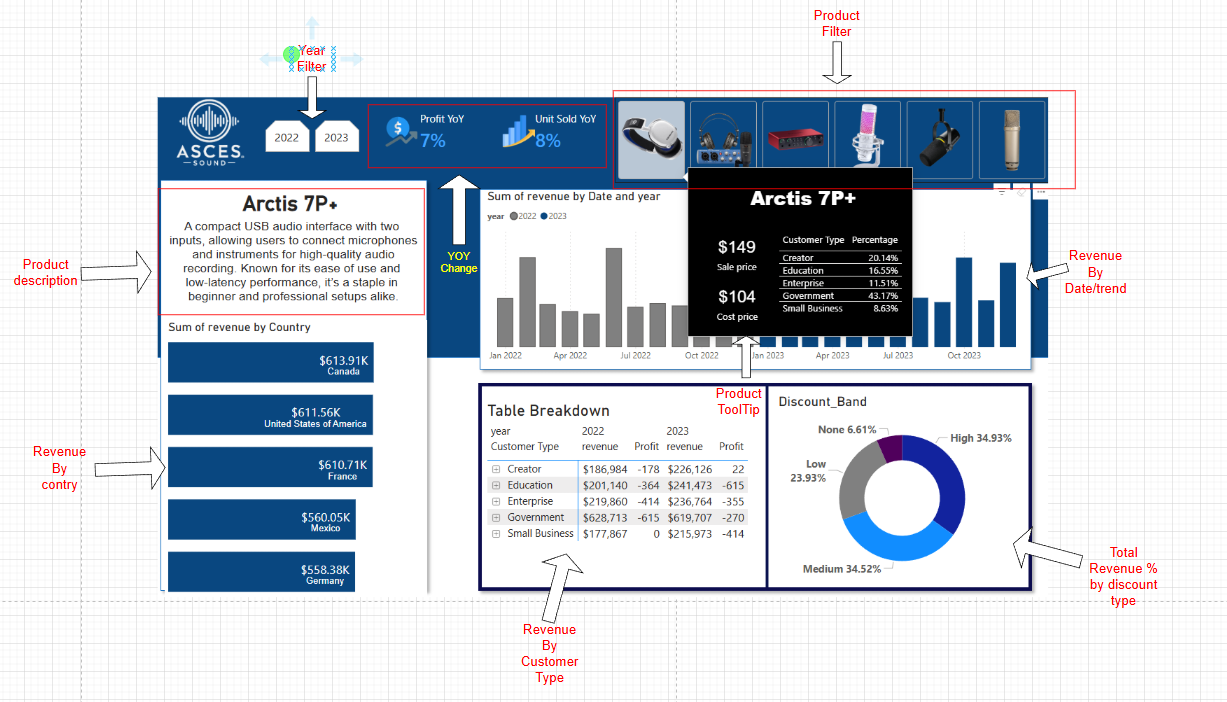

The dashboard page shown, as its layout file describes it:
{"tool":"powerbi","page":{"name":"Page 1","canvas":[1280,720],"ordinal":0},"visuals":[{"type":"shape","box":[0,0,1280,377.9],"z":0},{"type":"shape","box":[0,115.2,399,604.8],"z":1000},{"type":"shape","box":[456,128,806,276],"z":2000},{"type":"shape","box":[453.6,404.5,809.1,315.5],"z":3000},{"type":"image","box":[0,0,148,108],"z":4000},{"type":"advancedSlicerVisual","fields":{"Values":["Query1.Image_url"]},"box":[658.3,6.3,622.1,121.5],"z":5000},{"type":"card","fields":{"Values":["Min(Query1.Product)"]},"box":[14.5,115.2,360.9,79.8],"z":6000},{"type":"card","fields":{"Values":["Min(Query1.Description)"]},"box":[14.5,146,368.2,177.7],"z":7000},{"type":"clusteredBarChart","fields":{"Category":["Query1.Country"],"Y":["Sum(Query1.revenue)"]},"box":[14.5,323.7,375.4,396.3],"z":8000},{"type":"columnChart","fields":{"Category":["Query1.Date"],"Y":["Sum(Query1.revenue)"],"Series":["Query1.year"]},"box":[471,137,779,256],"z":9000},{"type":"donutChart","title":"Discount_Band","fields":{"Category":["Query1.Discount_Band"],"Y":["Sum(Query1.revenue)"]},"box":[886.9,428.9,362.7,277.5],"z":10000},{"type":"pivotTable","title":"Table Breakdown","fields":{"Rows":["Query1.Customer_Type","Query1.Product"],"Columns":["Query1.year"],"Values":["Sum(Query1.revenue)","Min(Query1.Profit)"]},"box":[471,440,397,239],"z":11000},{"type":"shape","box":[725.4,414.4,300.2,292],"z":12000},{"type":"advancedSlicerVisual","fields":{"Values":["Query1.year"]},"box":[154,34,144,55],"z":13000},{"type":"cardVisual","fields":{"Data":["Query1.Profit YoY","Query1.Unit Sold YoY"]},"box":[304.7,3.6,360,101.6],"z":14000}]}

Visuals, with their boxes in screenshot pixels (x1, y1, x2, y2), scaled from the page's 1280x720 canvas onto the 1227x702 screenshot:
shape: 0,0,1226,368
shape: 0,112,382,701
shape: 437,125,1210,394
shape: 435,394,1210,701
image: 0,0,142,105
advancedSlicerVisual - Query1.Image_url: 631,6,1226,125
card - Min(Query1.Product): 14,112,360,190
card - Min(Query1.Description): 14,142,367,316
clusteredBarChart - Query1.Country x Sum(Query1.revenue): 14,316,374,701
columnChart - Query1.Date x Sum(Query1.revenue): 451,134,1198,383
"Discount_Band" donutChart: 850,418,1198,689
"Table Breakdown" pivotTable: 451,429,832,662
shape: 695,404,983,689
advancedSlicerVisual - Query1.year: 148,33,286,87
cardVisual - Query1.Profit YoY x Query1.Unit Sold YoY: 292,4,637,103
